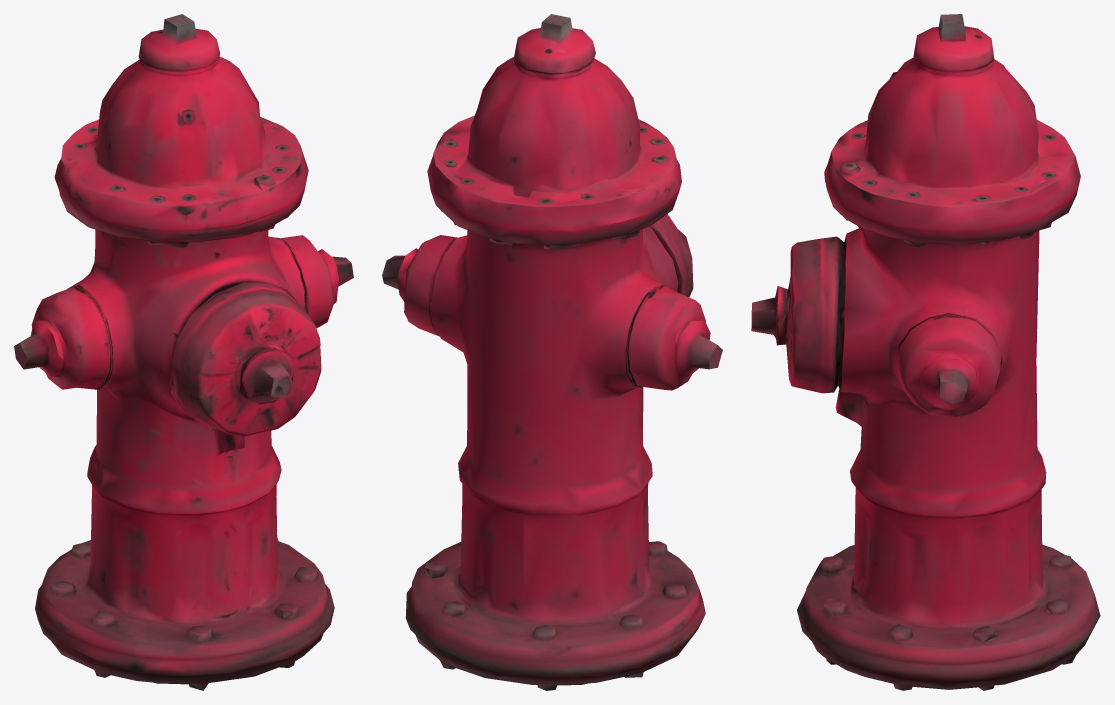
Rendered from hydrant.glb.
3 views of the same model, side by side, from view 1: azimuth 30°, elevation 25°; view 2: azimuth 150°, elevation 25°; view 3: azimuth 270°, elevation 25° (orthographic).
Visible parts, largest first — view 1: mesh_node_Default; view 2: mesh_node_Default; view 3: mesh_node_Default.
Part boxes in pixels (x1=…): mesh_node_Default: x1=14, y1=14, x2=353, y2=690; mesh_node_Default: x1=382, y1=14, x2=722, y2=690; mesh_node_Default: x1=751, y1=14, x2=1100, y2=690.
Size of the model in its own units: 1.05 by 1.9 by 0.9614.
Materials: 1 (1 with a texture image).
